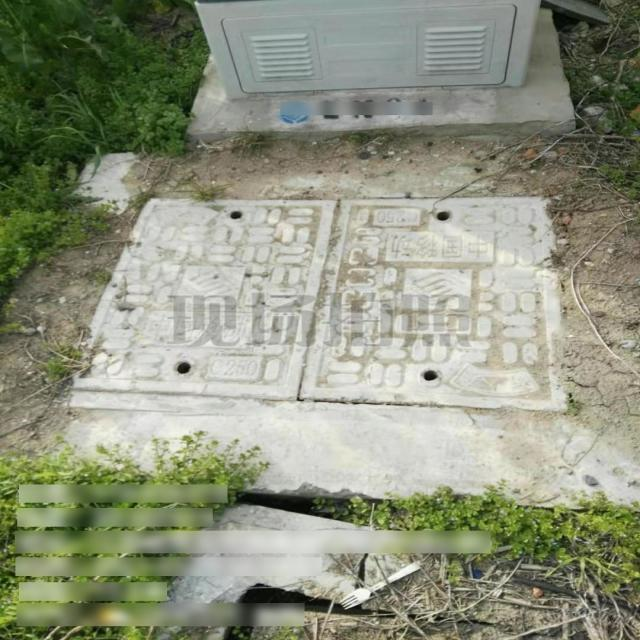Good: (64, 195, 568, 417)
